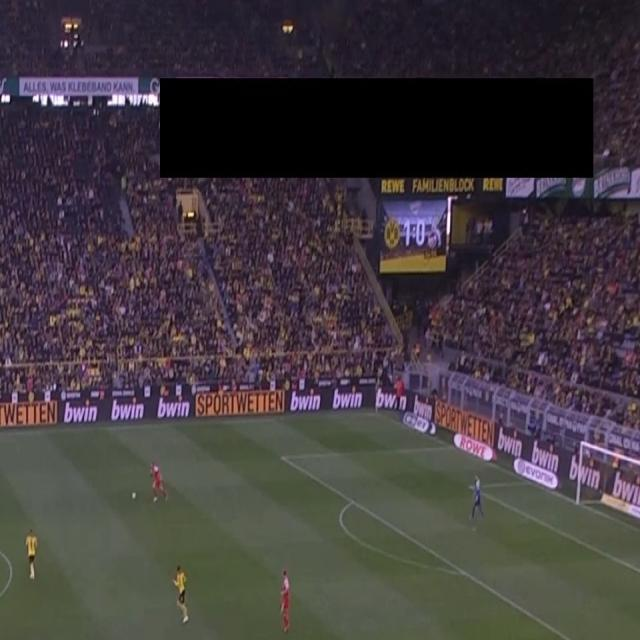ball: (131, 491, 137, 502)
